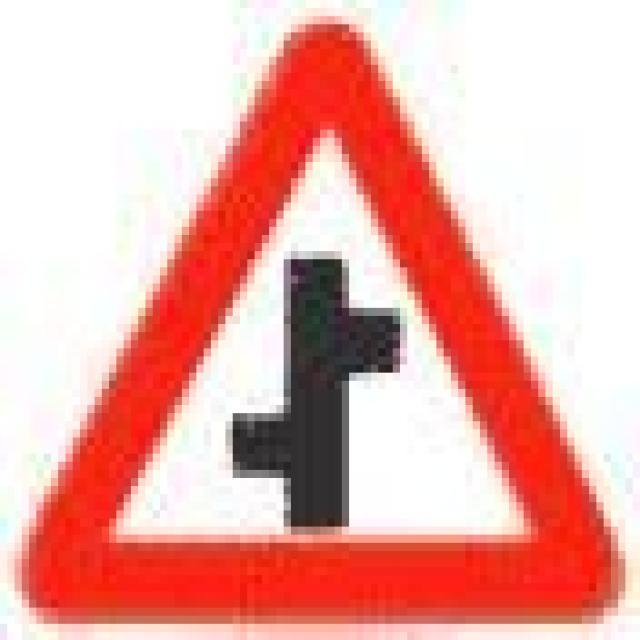staggered intersection: (25, 18, 615, 621)
